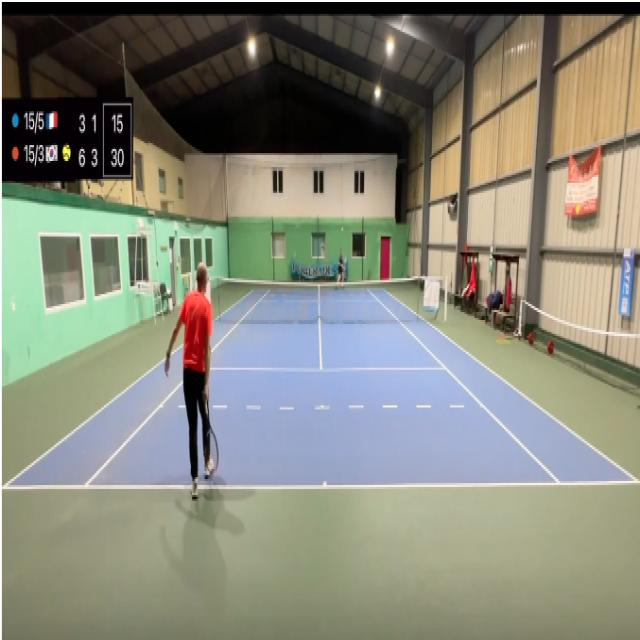ball: (341, 226, 343, 231)
